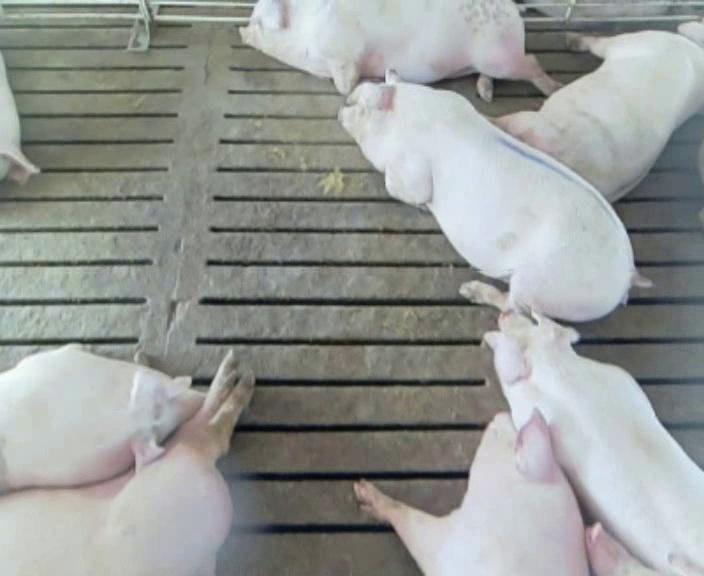pig: (339, 69, 652, 320), (485, 313, 703, 573), (354, 413, 588, 574), (494, 25, 703, 201), (240, 2, 559, 100), (0, 345, 203, 491)
